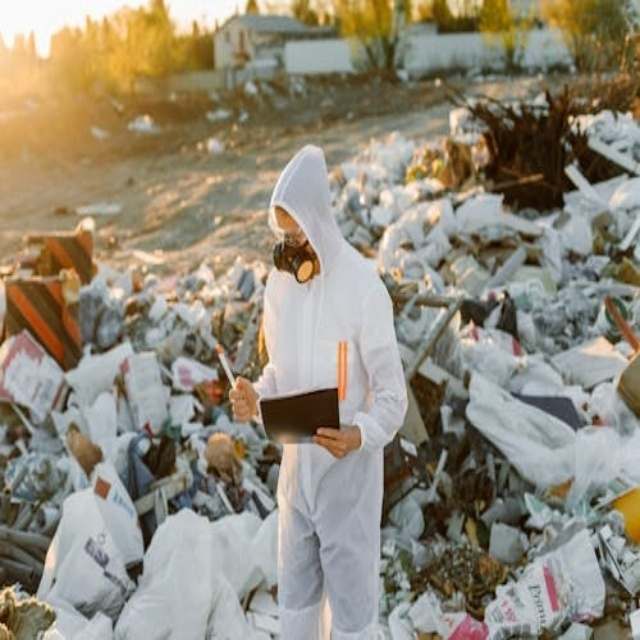Gafas: (277, 229, 307, 249)
Mascara: (272, 237, 319, 284)
Sin_guantes: (314, 422, 360, 459), (229, 375, 260, 423)
